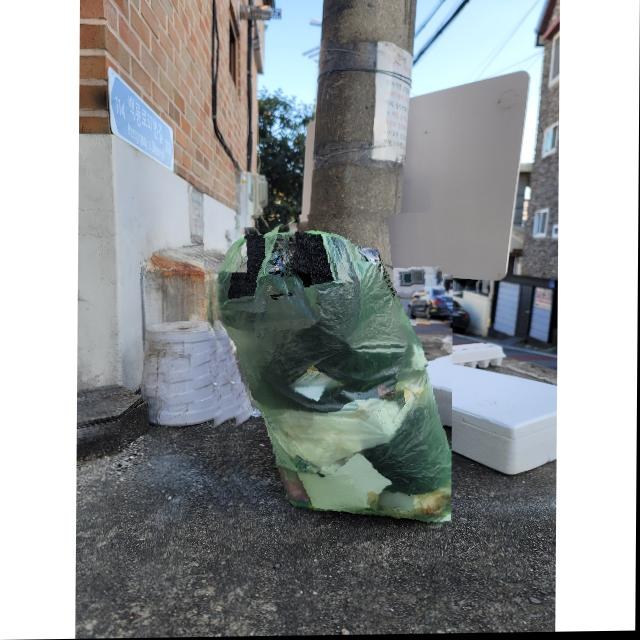other_trashbag: (205, 214, 452, 545)
